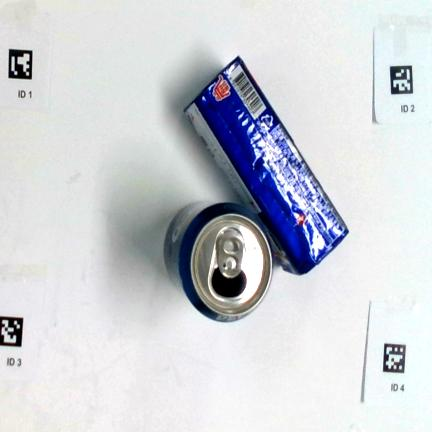can_pepsi: (165, 203, 272, 321)
cracker_ace: (184, 54, 350, 277)
